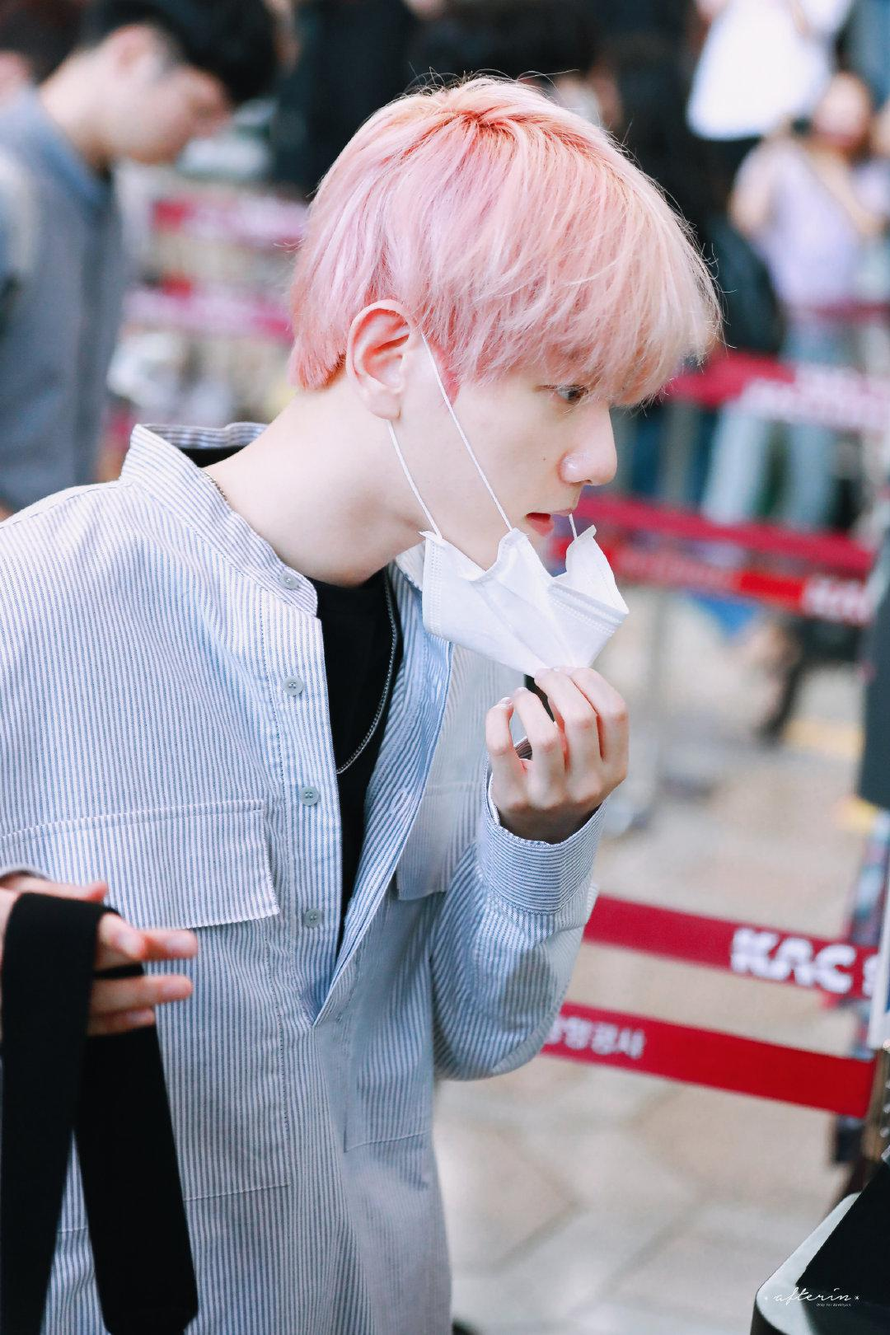NONE: (116, 51, 227, 170)
WRONG: (447, 316, 633, 597)
